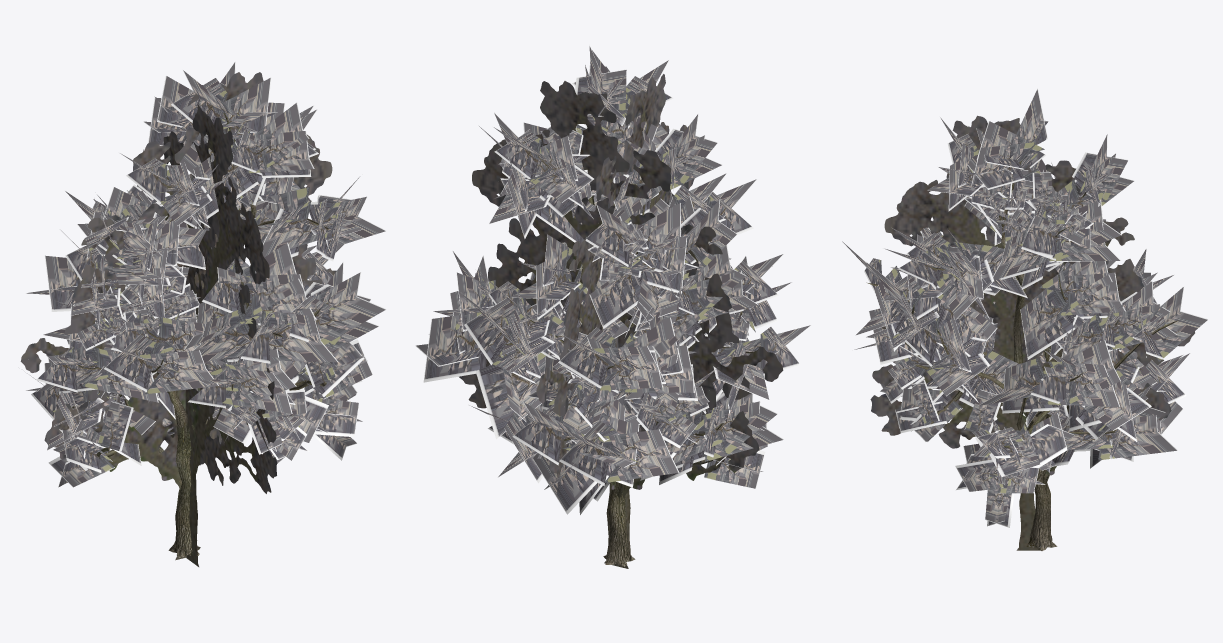
The model's file is Tree-Oak3D.fbx.
3 renders of one model, left to right at view 1: azimuth 30°, elevation 25°; view 2: azimuth 150°, elevation 25°; view 3: azimuth 270°, elevation 25°, orthographic. The views are drawn at different scales.
Visible parts, largest first — view 1: Tree-Oak3D_LOD0, Billboard-Oak3C; view 2: Tree-Oak3D_LOD0, Billboard-Oak3C; view 3: Tree-Oak3D_LOD0, Billboard-Oak3C.
Boxes of the visible parts, x1=… form: Tree-Oak3D_LOD0: x1=26, y1=61, x2=386, y2=557; Billboard-Oak3C: x1=20, y1=72, x2=336, y2=566; Tree-Oak3D_LOD0: x1=415, y1=45, x2=811, y2=566; Billboard-Oak3C: x1=459, y1=74, x2=783, y2=568; Tree-Oak3D_LOD0: x1=842, y1=88, x2=1207, y2=550; Billboard-Oak3C: x1=870, y1=115, x2=1194, y2=550.
Size of what is drawn, in the model's own units: 2603 by 3562 by 2584.
